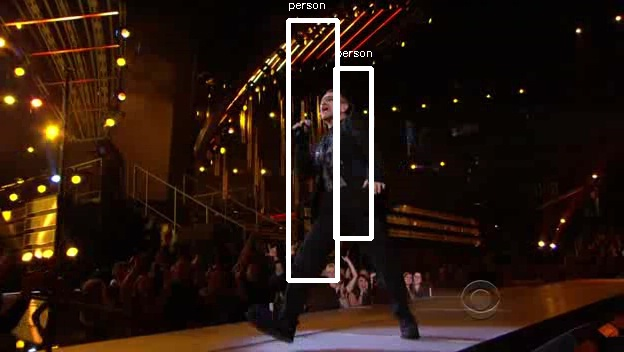person: (294, 91, 386, 256), (291, 91, 383, 256), (297, 91, 389, 256), (294, 88, 386, 253), (294, 94, 386, 259)
target_negative: (18, 25, 209, 233), (483, 195, 555, 314), (178, 330, 450, 351), (136, 27, 198, 81), (4, 100, 41, 169), (137, 90, 151, 250)
